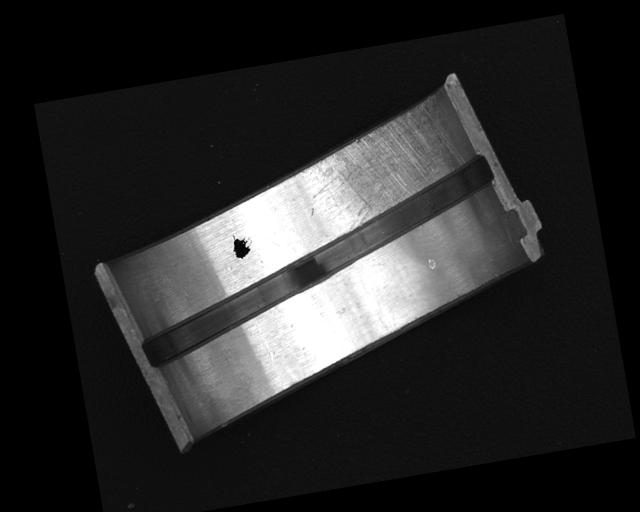blot: (229, 231, 254, 260)
bruise: (426, 255, 436, 270)
gap: (118, 154, 513, 369)
nick: (254, 315, 274, 362)
scratch: (296, 100, 458, 239)
